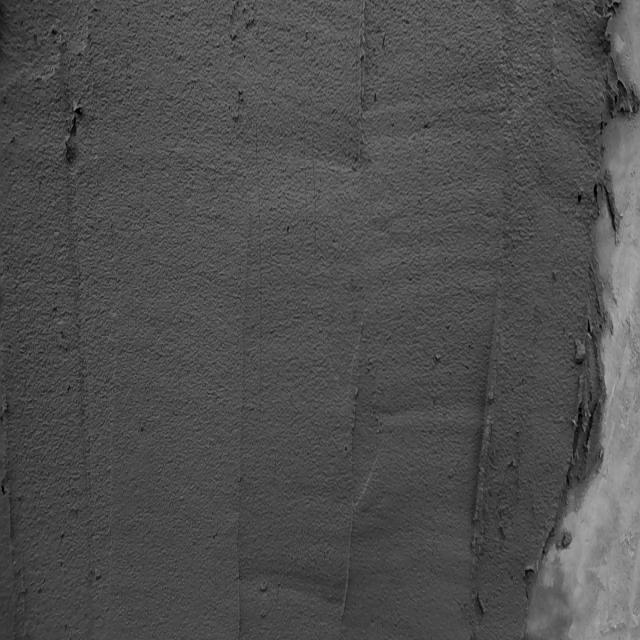trowels marks: (466, 276, 505, 556), (356, 5, 369, 160)
